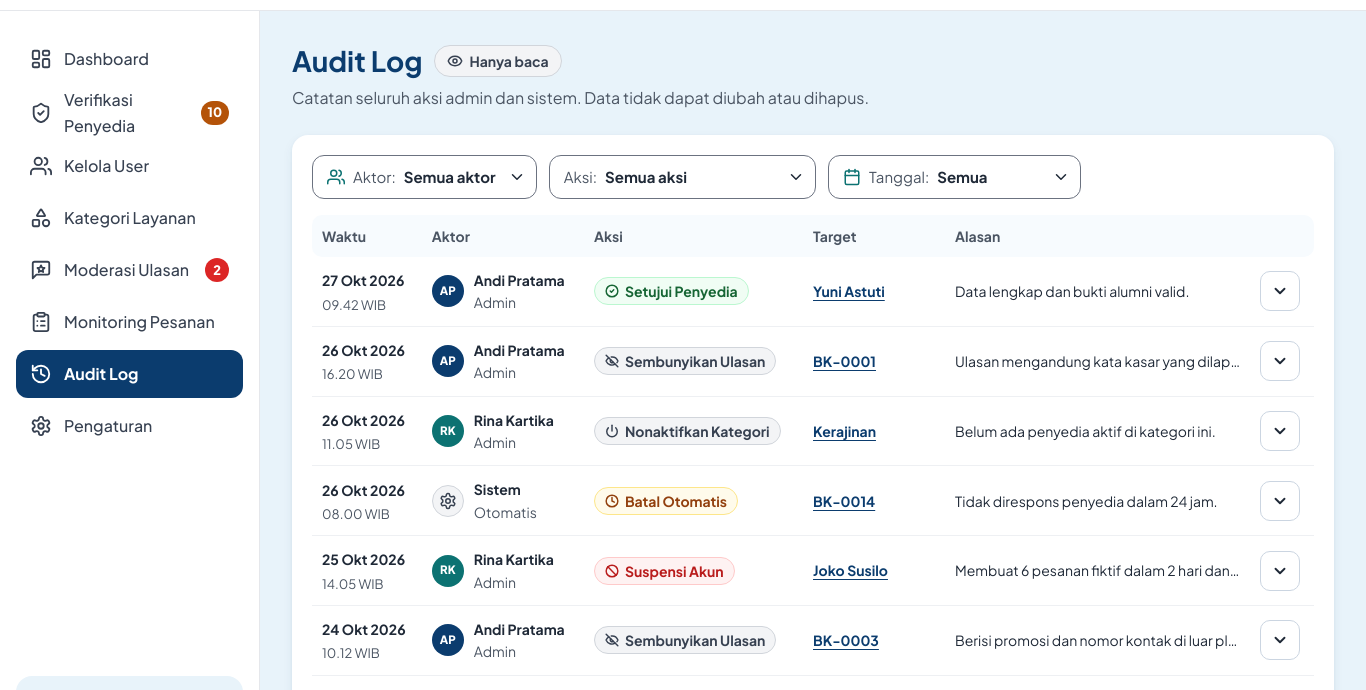
Audit Log › tautan dari Audit Log membuka Kelola User dengan pencarian terisi
Click the link "Joko Susilo": (850, 570) [813,561,888,579]
(page scrolled)
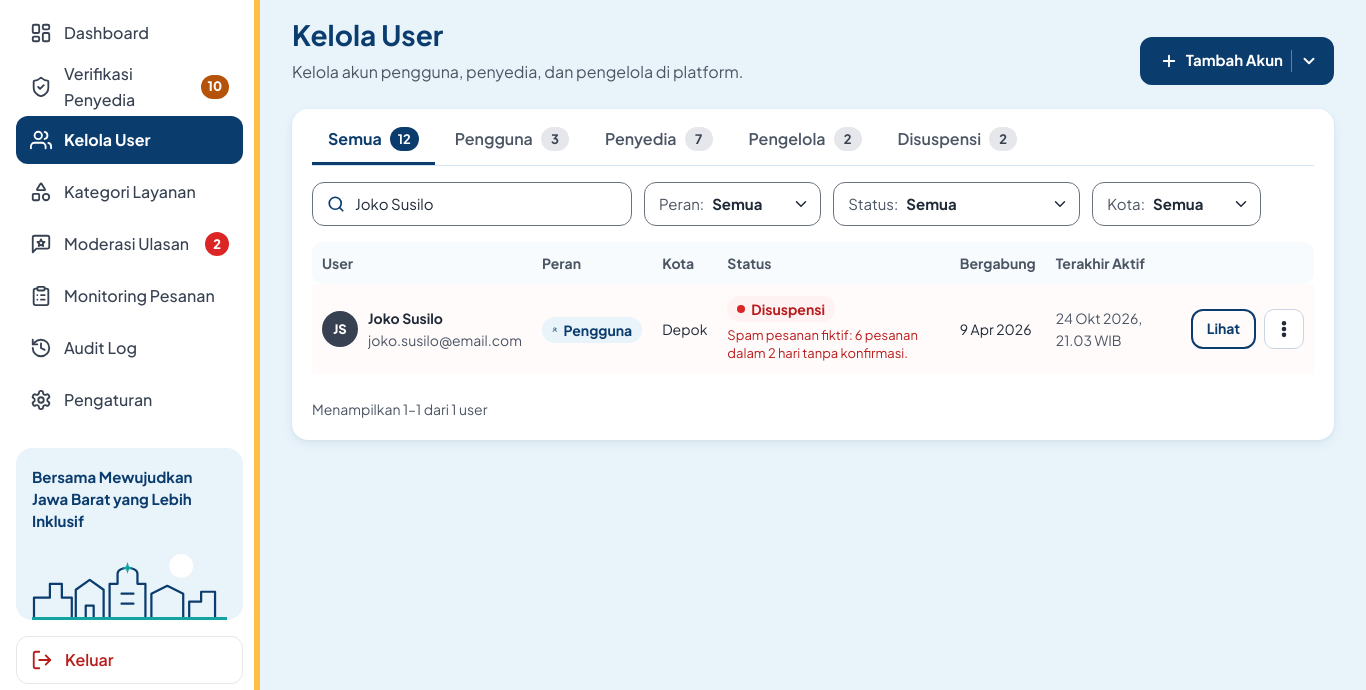
Expected: the search field named "Cari nama atau email" holds "Joko Susilo", [353,184,619,224]
Expected: the number of rows is 2, [312,242,1314,284]; [312,284,1314,374]
